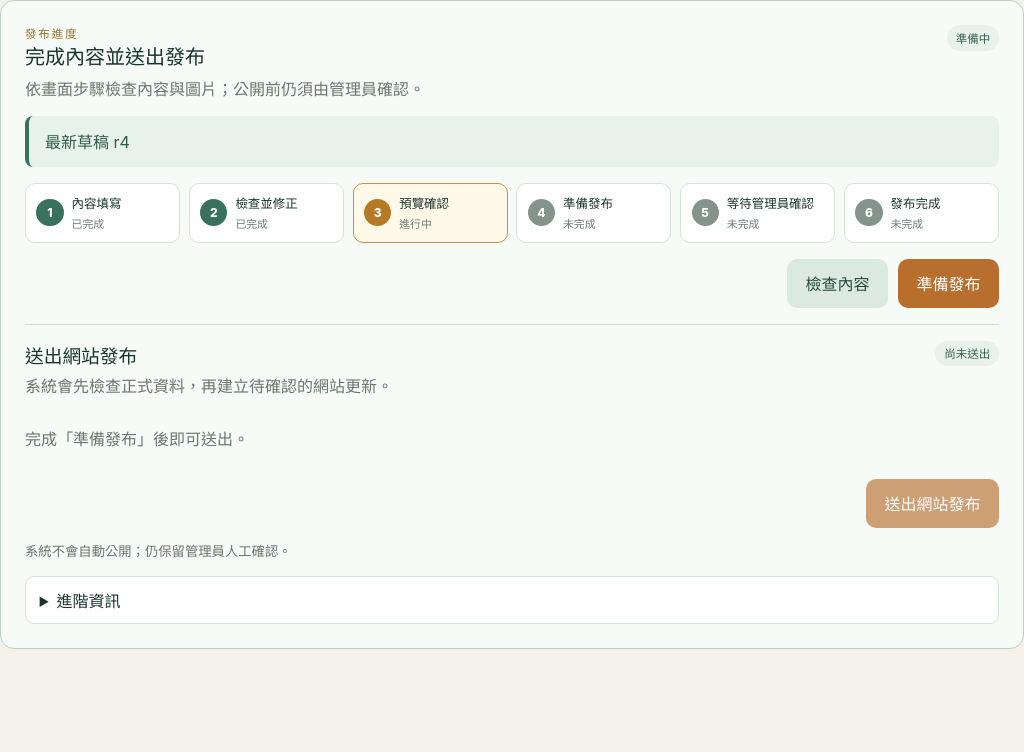
Scenario: 準備發布會依序完成檢查、快照與圖片準備
The width and height of the screenshot is (1024, 752).
Step 1. Click the button "準備發布" → (949, 283), box [898, 259, 999, 308]
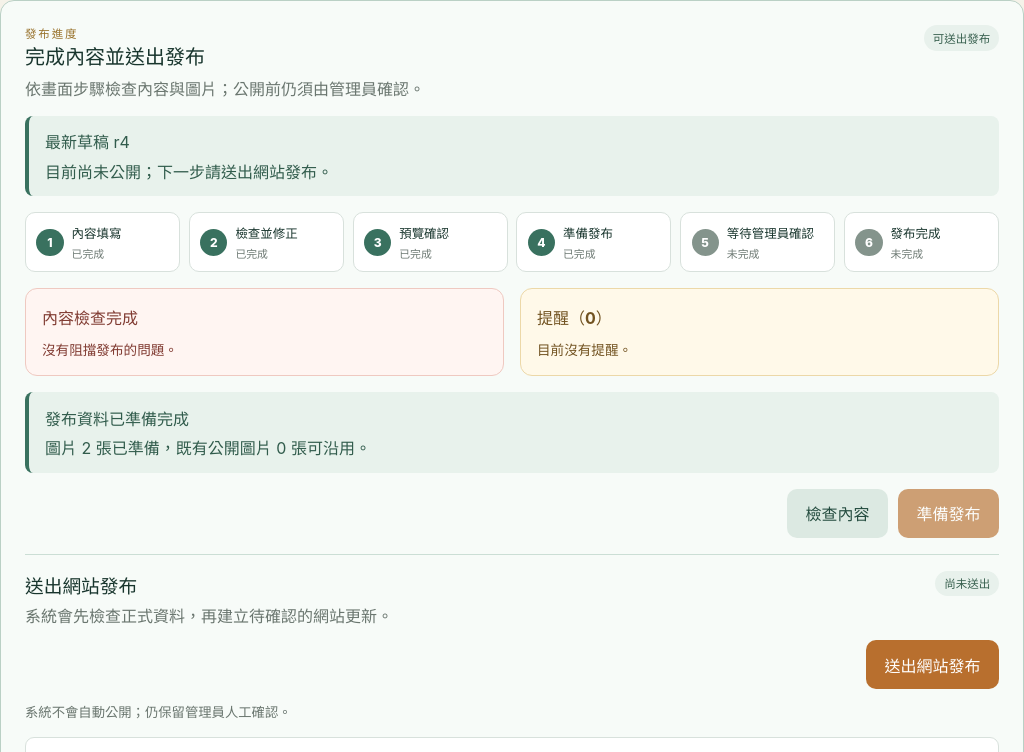
Expected: the text "發布資料已準備完成" is shown, [45, 408, 189, 428]
